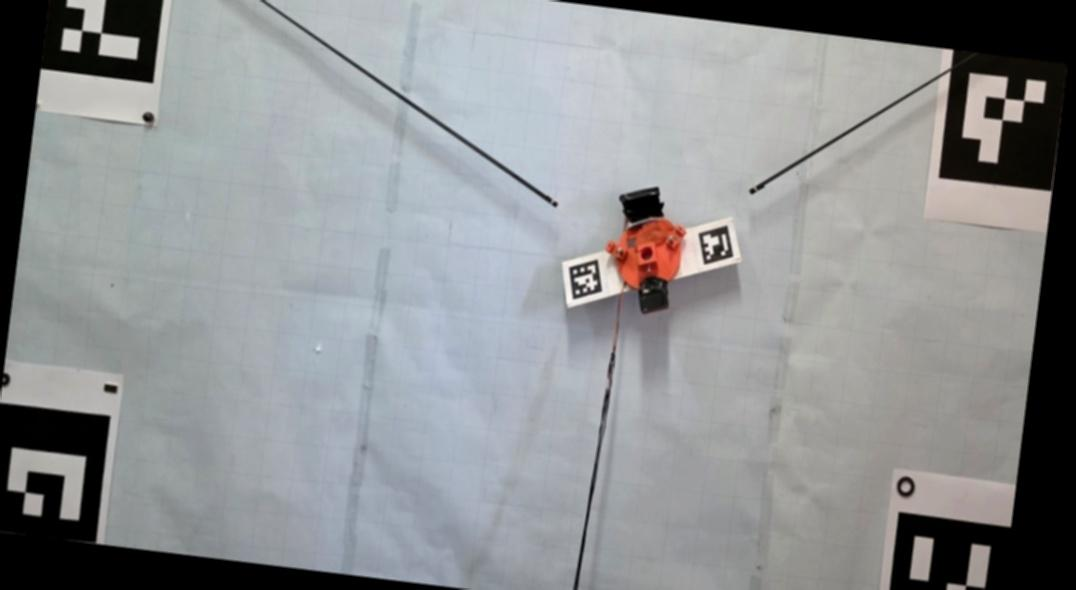robot: (603, 187, 687, 316)
